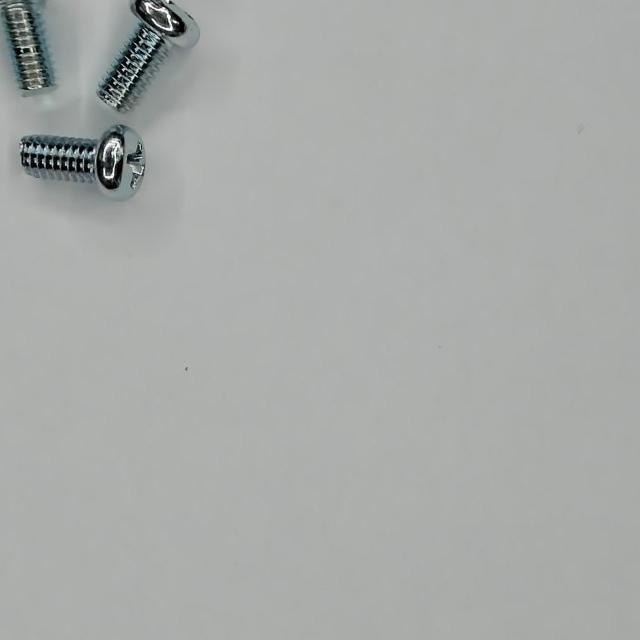Screw: (97, 0, 199, 111), (20, 125, 145, 198), (0, 0, 54, 94)
